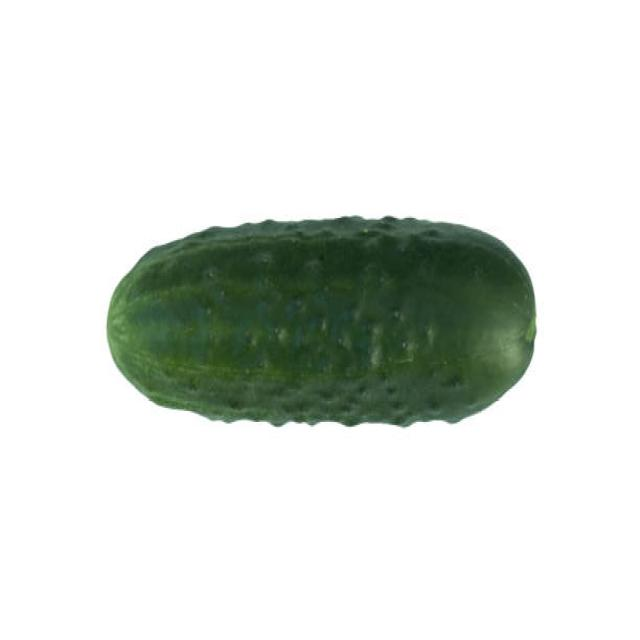cucumber: (108, 213, 537, 428)
